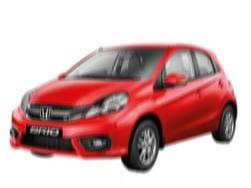Car hood: (25, 78, 131, 109)
Fender - -F-L-: (129, 77, 168, 148)
Fender - -R-L-: (221, 78, 234, 112)
Front bumper: (7, 111, 136, 161)
Headlight - -L-: (83, 89, 132, 121)
Headlight - -R-: (18, 86, 35, 118)
Passenger-s door - -F-L-: (168, 43, 201, 137)
Passenger-s door - -R-L-: (198, 43, 225, 128)
Rear bumper: (232, 98, 243, 120)
Side bumper - -L-: (159, 116, 222, 150)
Side mirror - -L-: (162, 71, 189, 88)
Side mirror - -R-: (56, 70, 69, 81)
